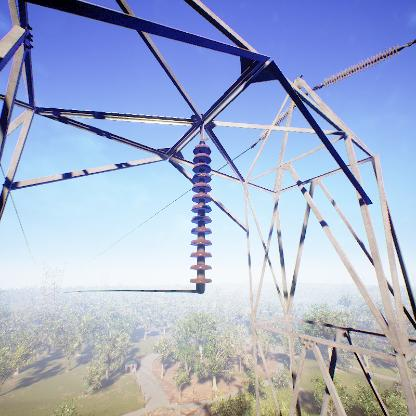insulator: (188, 142, 215, 291), (323, 43, 402, 89)
